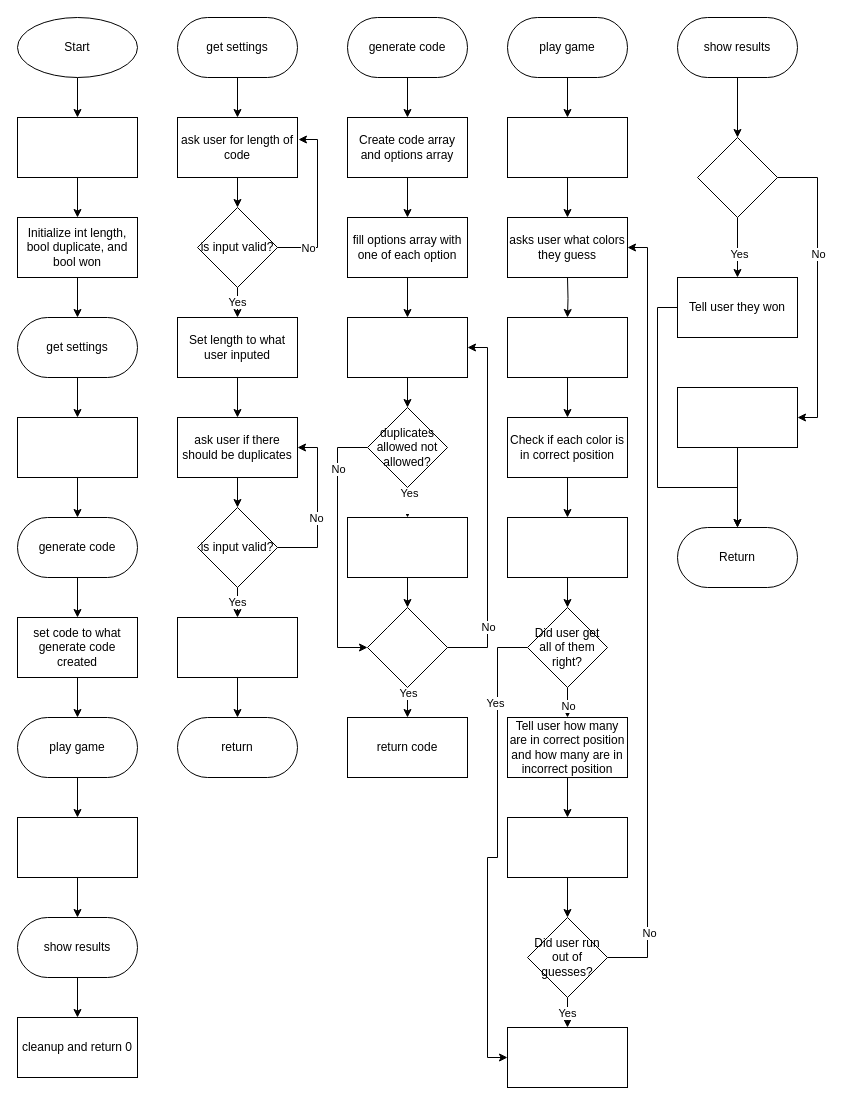
The diagram is 843 pixels wide and 1105 high, and some of its shapes have lost their labels. The shapes that lost their labels are listed below. From the top down, each one's centre as x and y in pixels, then its label:
pixel 77 147: set random seed to time
pixel 567 147: Set variable guesses to 0 and max guesses to 10
pixel 737 177: Did user win?
pixel 407 347: Pick 1 random from options and put it in code array
pixel 567 347: Get user input (expect colors spaced with number of colors being length of code)
pixel 737 417: Tell user they lost and what the code was
pixel 77 447: set length and duplicate to what settings returns
pixel 407 547: Removed selected color from options
pixel 567 547: Check colors that are in incorrect position
pixel 237 647: Set duplicate bool to true if yes or false if no
pixel 407 647: is code as long as length required?
pixel 77 847: set won to what play game returned
pixel 567 847: Add 1 to guesses count
pixel 567 1057: Return if the user won or lost
